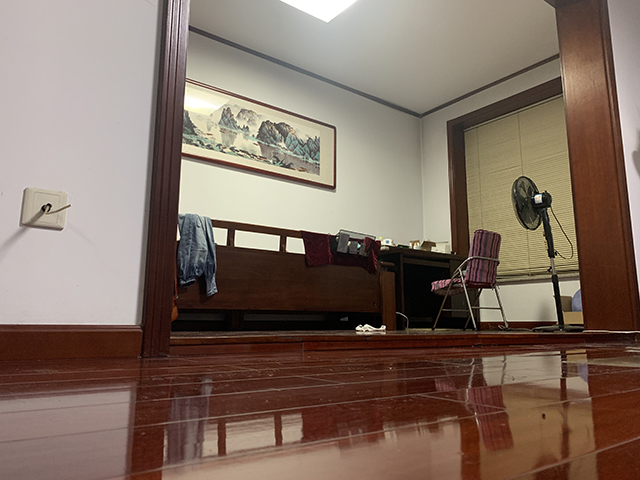bed: (171, 212, 385, 331)
carpet: (407, 327, 475, 332)
socks: (354, 322, 387, 333)
stool: (428, 227, 510, 332)
table: (380, 237, 481, 330)
wire: (479, 323, 533, 333), (396, 310, 410, 329)
